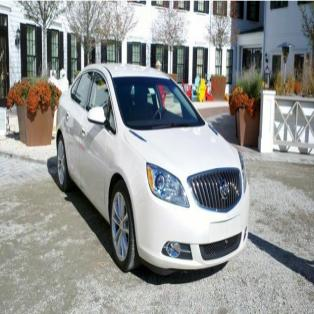Auto: (56, 60, 252, 276)
